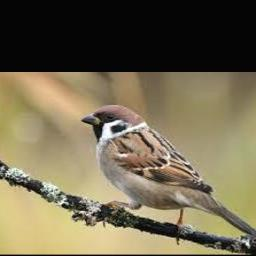Sparrow: (80, 105, 256, 242)
